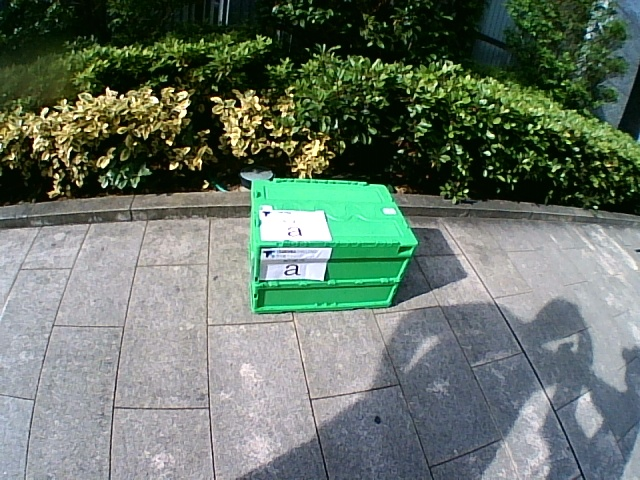blue_box: (250, 178, 419, 314)
tag_b: (261, 211, 328, 242), (261, 249, 324, 279)
